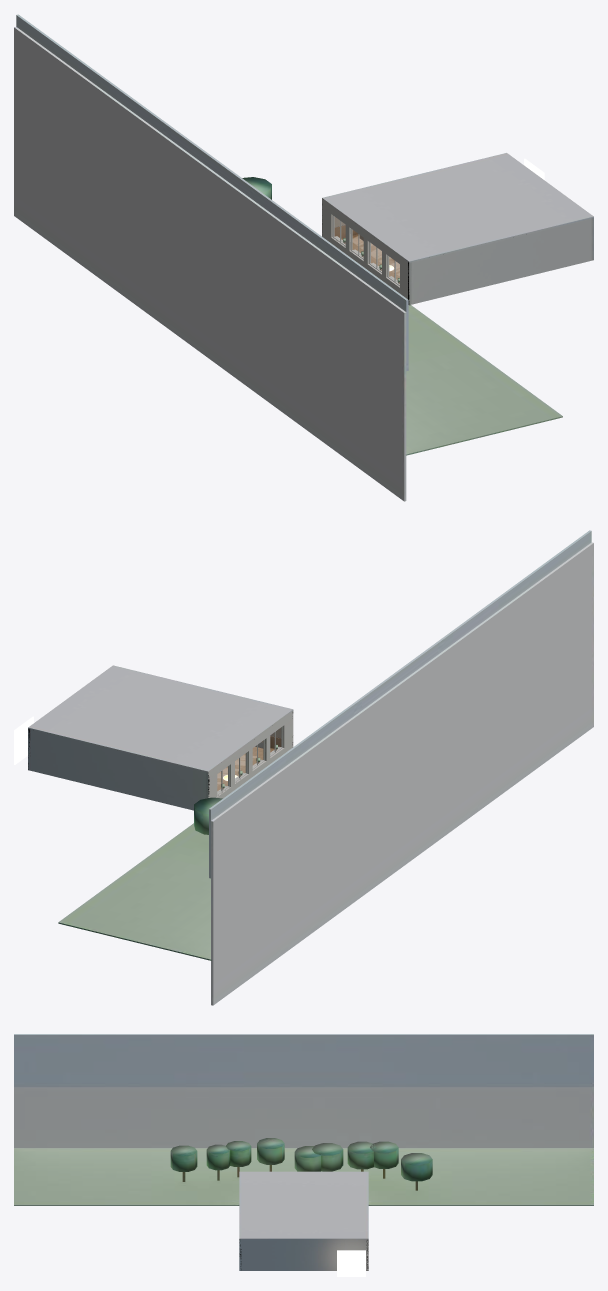
Rendered from stage-classroom-m.glb.
The picture shows the model from 3 angles, top to bottom: view 1: azimuth 30°, elevation 25°; view 2: azimuth 150°, elevation 25°; view 3: azimuth 270°, elevation 25°; orthographic projection. The views are drawn at different scales.
Visible parts, largest first — view 1: BK_outside, BK_ceiling, BK_walls; view 2: BK_outside, BK_ceiling, BK_walls; view 3: BK_outside, BK_ceiling, BK_walls, EM_door.
Boxes of the visible parts, x1,y1,x2,y2 form: BK_outside: (14, 14, 562, 501); BK_ceiling: (322, 153, 593, 262); BK_walls: (322, 199, 593, 305); BK_outside: (58, 530, 593, 1005); BK_ceiling: (28, 665, 293, 772); BK_walls: (28, 711, 293, 810); BK_outside: (14, 1034, 593, 1205); BK_ceiling: (239, 1171, 368, 1239); BK_walls: (239, 1239, 368, 1270); EM_door: (337, 1250, 365, 1276).
Size of the model in its own units: 31.75 by 17 by 60.
Materials: 19 (8 with a texture image).
